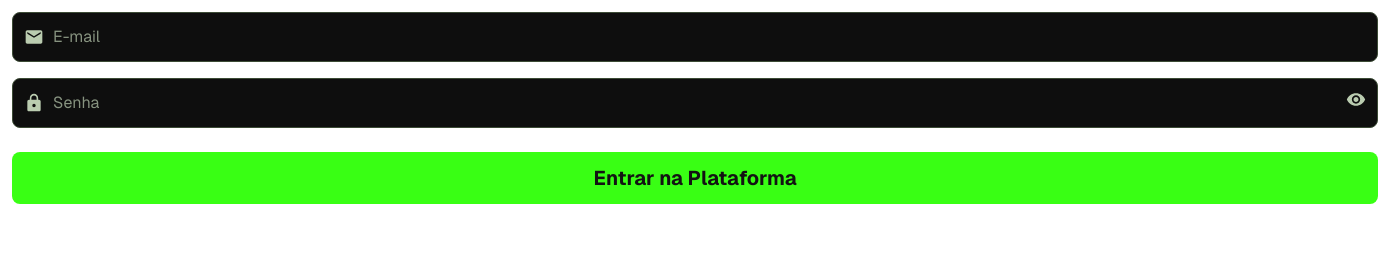
Test: LoginForm › shows validation errors when submitted empty
The width and height of the screenshot is (1390, 269).
Click the button "Entrar na Plataforma" at (695, 178), box x1=12 y1=152 x2=1378 y2=204
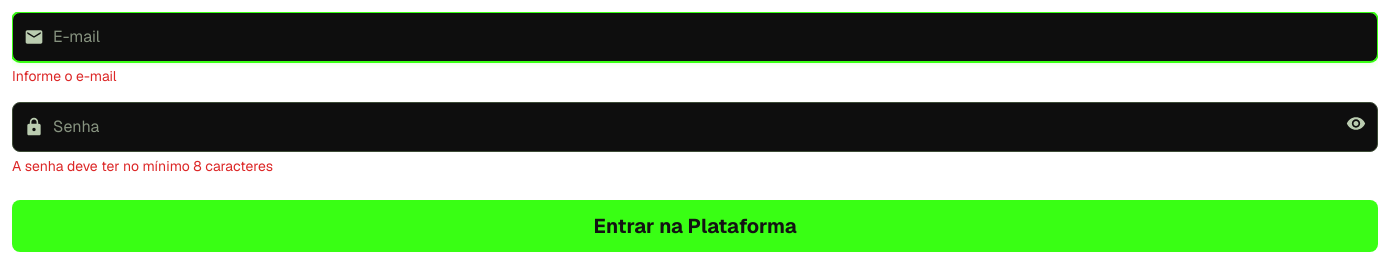
Expected: the text "Informe o e-mail" is shown, x1=12 y1=67 x2=116 y2=85
Expected: the text "A senha deve ter no mínimo 8 caracteres" is shown, x1=12 y1=157 x2=273 y2=175
